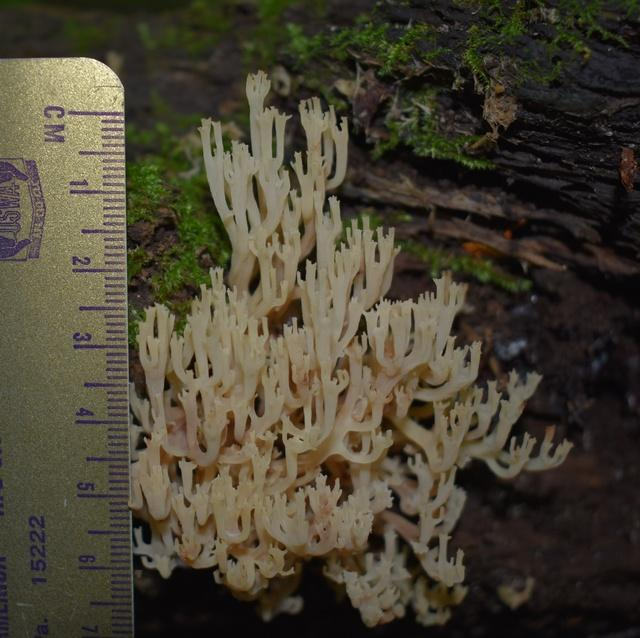Edible Mushroom: (128, 67, 574, 628)
